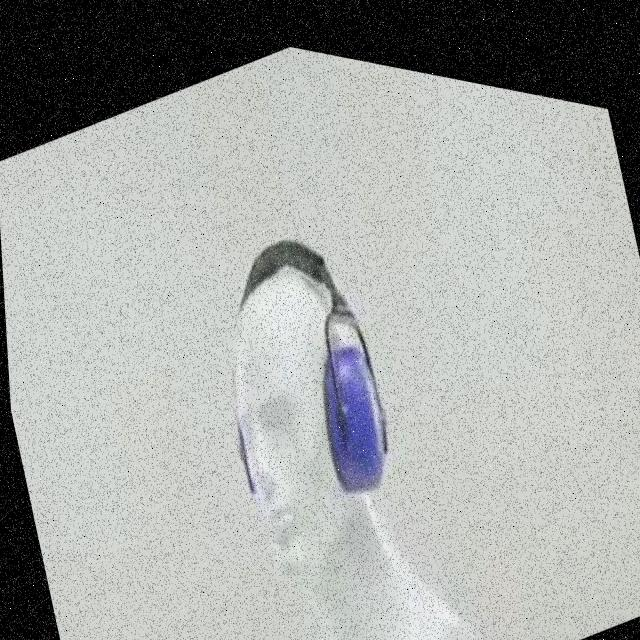Earmuffs: (325, 311, 387, 491)
